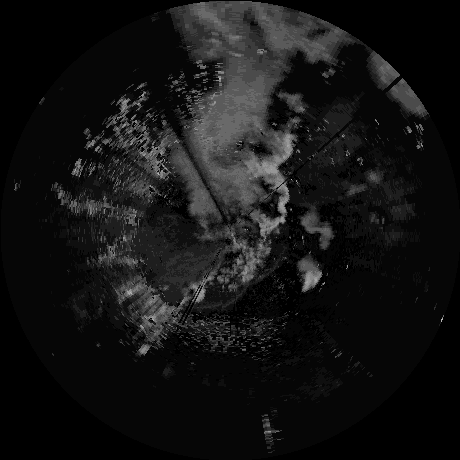frontgust: (226, 288, 248, 309), (191, 299, 221, 309)
